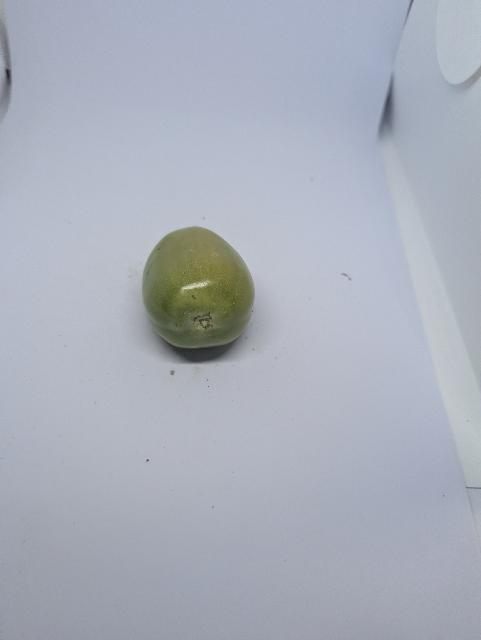green: (140, 224, 257, 351)
